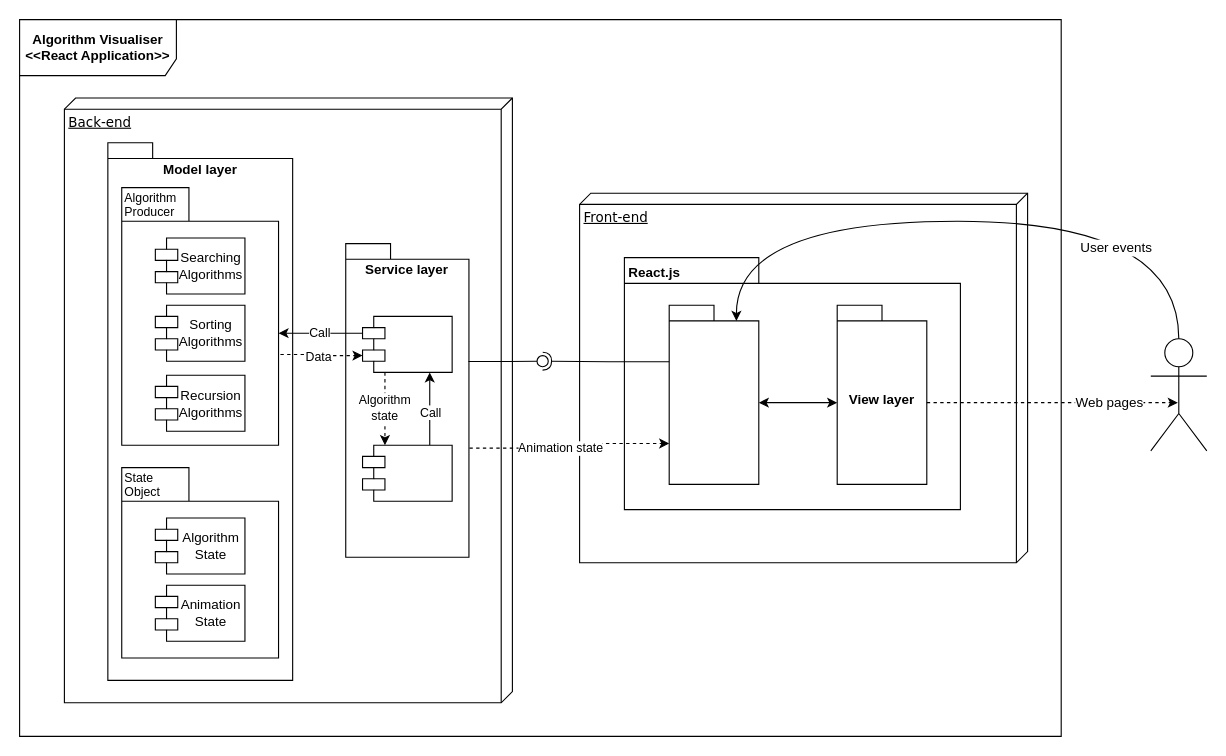
Image size: 1226x756. Some labels were removed from this diagram. The centre of each missing label's shape, as x and y in pixels:
"Algorithm Executor" belongs at (x=406, y=343).
"Animation State Producer" belongs at (x=406, y=472).
"Controller layer" belongs at (x=713, y=394).
"User" belongs at (x=1178, y=394).
